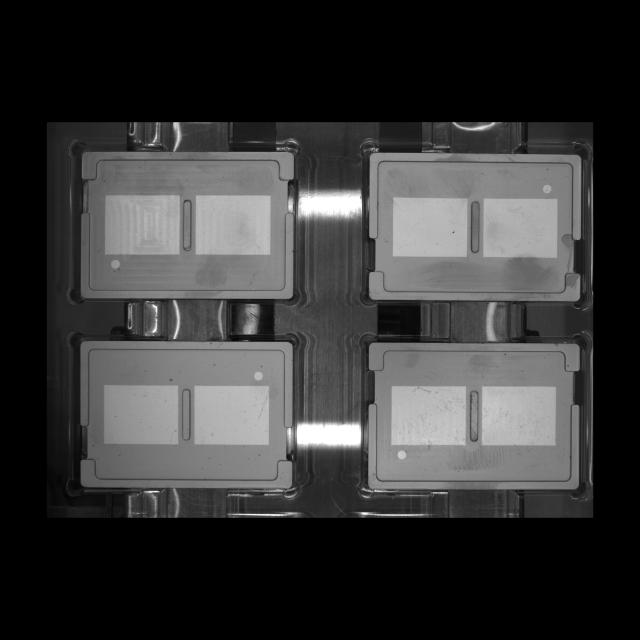product: (357, 136, 592, 311), (65, 327, 303, 499), (67, 139, 306, 307), (359, 333, 590, 503)
